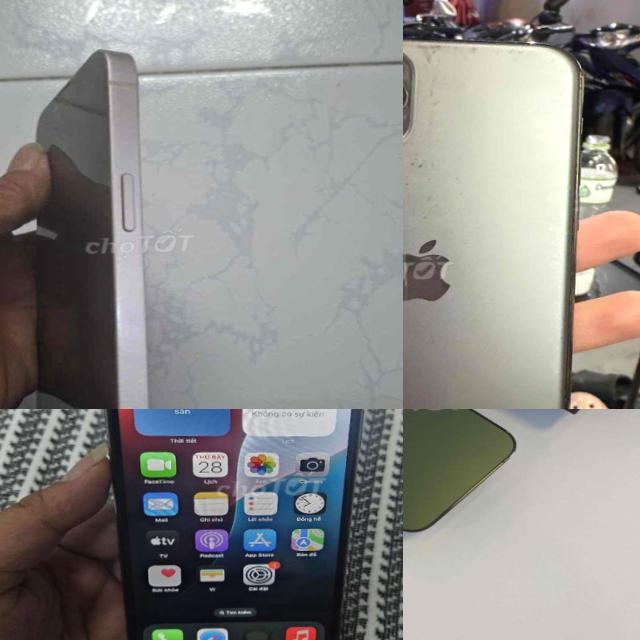gen_11: (403, 37, 581, 409)
gen_12_13: (23, 46, 200, 409), (403, 409, 521, 540)
gen_x_xs: (76, 409, 380, 640)
